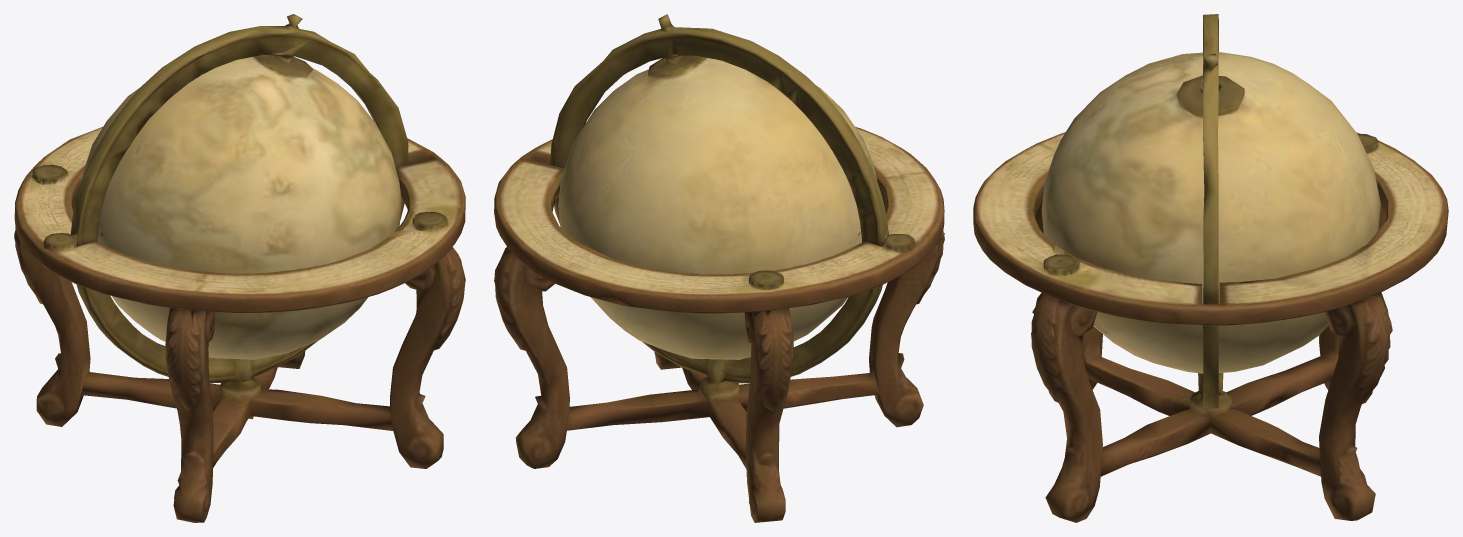
The model's file is globe_stand.glb.
3 views of the same model, side by side, from view 1: azimuth 30°, elevation 25°; view 2: azimuth 150°, elevation 25°; view 3: azimuth 270°, elevation 25° (orthographic). The views are drawn at different scales.
Visible parts, largest first — view 1: tripo_node_7d04eea9-81bd-4616-95e6-9d844839bf75; view 2: tripo_node_7d04eea9-81bd-4616-95e6-9d844839bf75; view 3: tripo_node_7d04eea9-81bd-4616-95e6-9d844839bf75.
Part boxes in pixels (left/top/right/bottom): tripo_node_7d04eea9-81bd-4616-95e6-9d844839bf75: left=14, top=14, right=465, bottom=522; tripo_node_7d04eea9-81bd-4616-95e6-9d844839bf75: left=494, top=14, right=944, bottom=522; tripo_node_7d04eea9-81bd-4616-95e6-9d844839bf75: left=973, top=14, right=1448, bottom=522.
Size of the model in its own units: 0.9795 by 0.9758 by 0.9745.
1 material, 1 textured.
